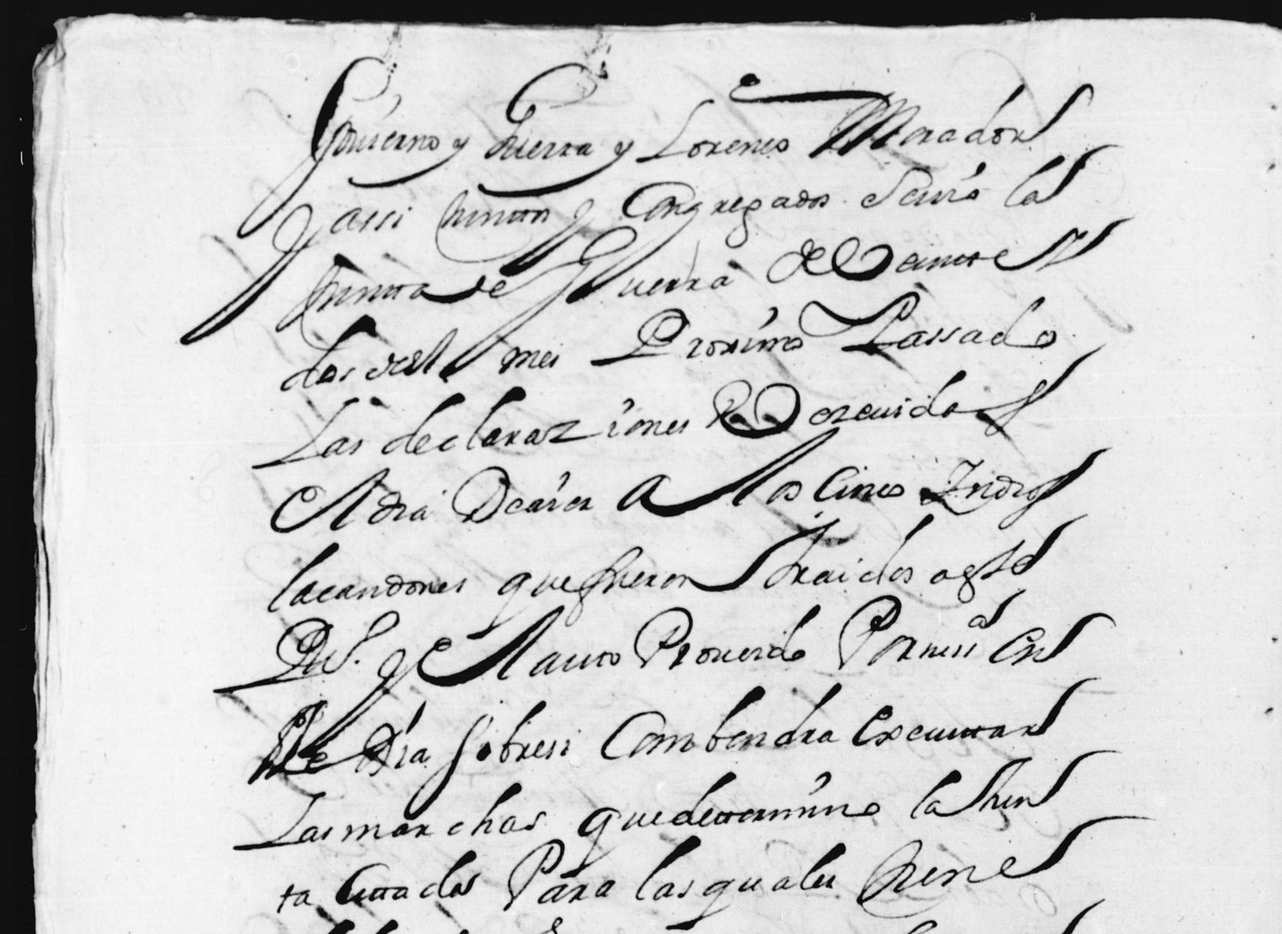lacandon: (267, 542, 467, 612)
